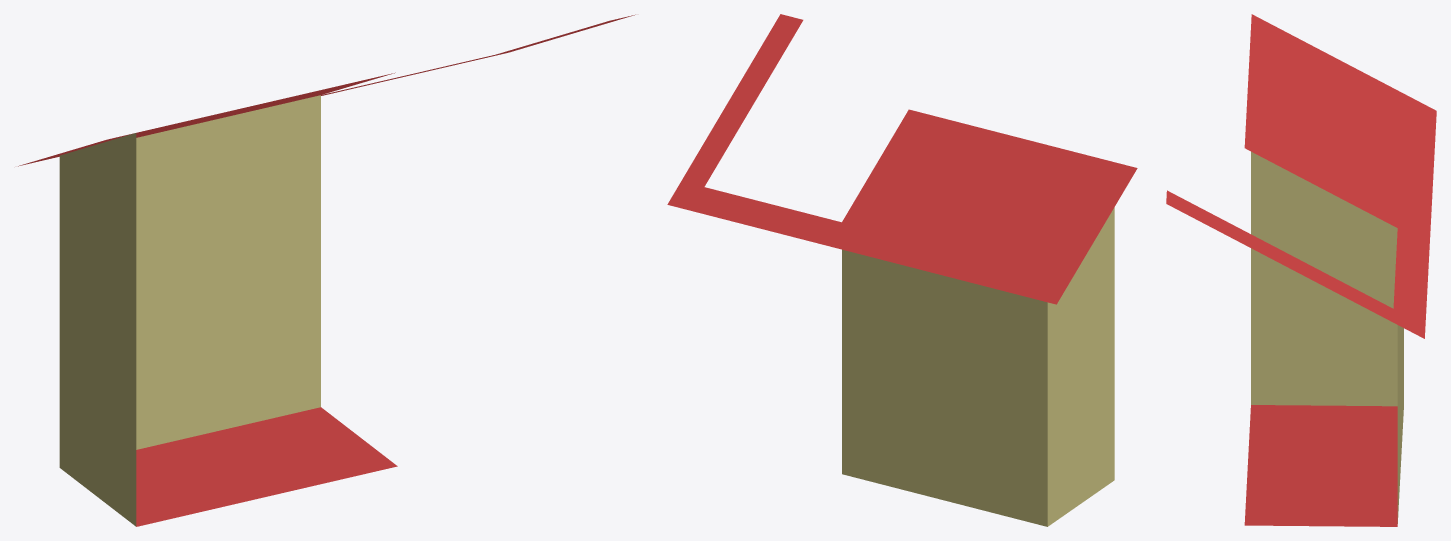
3 views of the same model, side by side, from view 1: azimuth 30°, elevation 25°; view 2: azimuth 150°, elevation 25°; view 3: azimuth 270°, elevation 25° (orthographic). The views are drawn at different scales.
Size of the model in its own units: 12.73 by 6.33 by 10.71.
